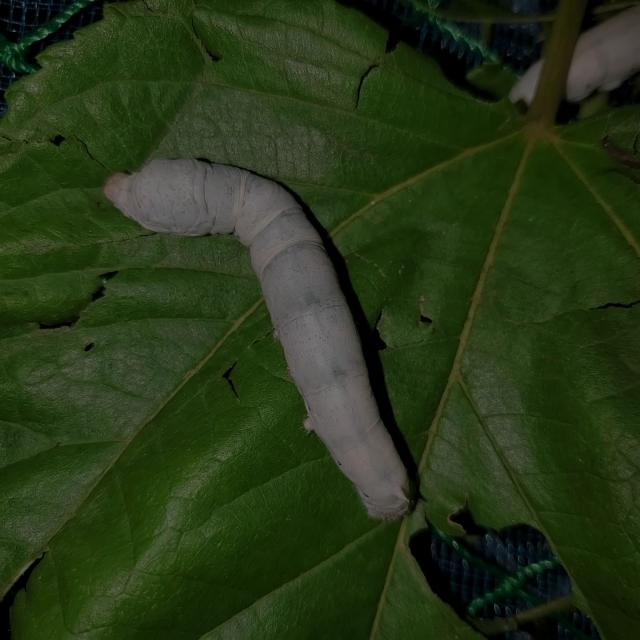Healthy: (101, 141, 423, 526)
